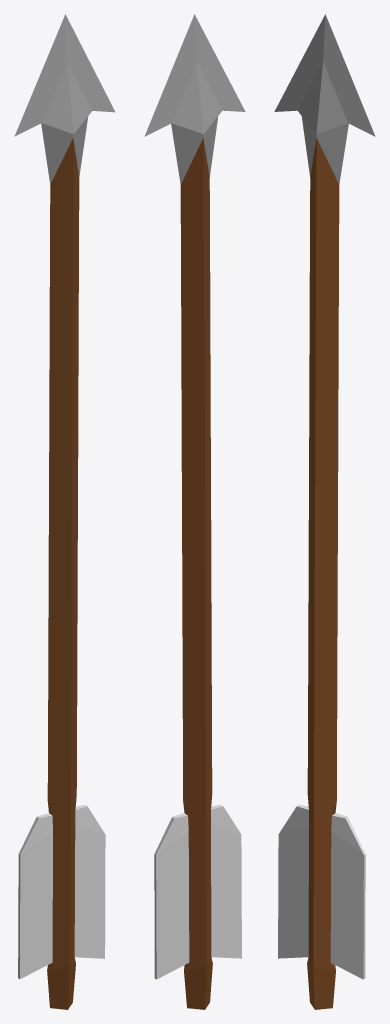
File: flecha.glb
The picture shows the model from 3 angles, left to right: view 1: azimuth 30°, elevation 25°; view 2: azimuth 210°, elevation 25°; view 3: azimuth 330°, elevation 25°; orthographic projection.
Visible parts, largest first — view 1: Broadhead Arrow; view 2: Broadhead Arrow; view 3: Broadhead Arrow.
Part boxes in pixels (x1,y1,x2,y2): Broadhead Arrow: [14, 14, 115, 1009]; Broadhead Arrow: [144, 14, 245, 1009]; Broadhead Arrow: [274, 14, 375, 1009].
Size of the model in its own units: 0.0781 by 0.73 by 0.0229.
